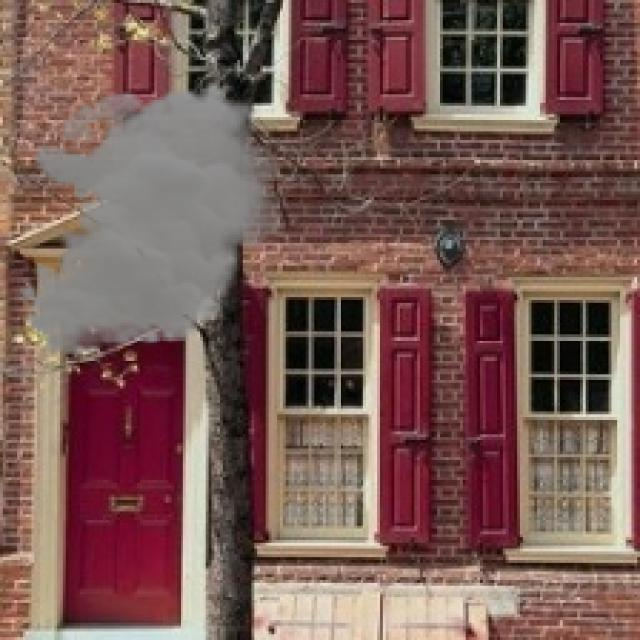Smoke: (17, 82, 294, 358)
